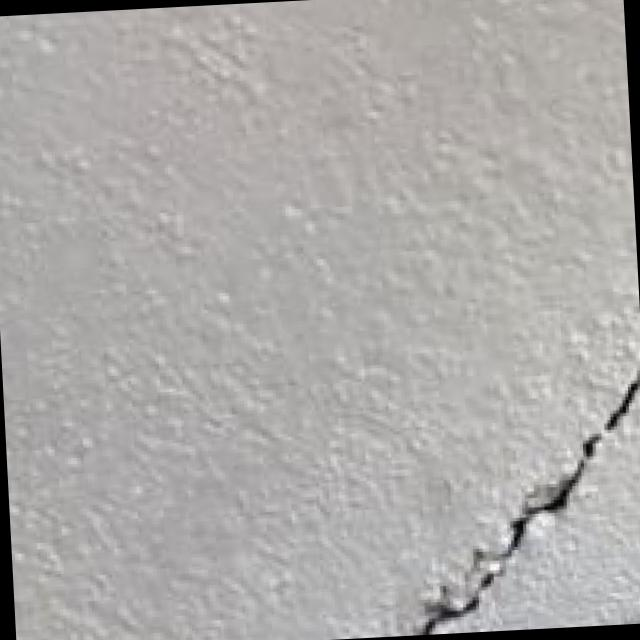crack: (361, 357, 640, 634)
